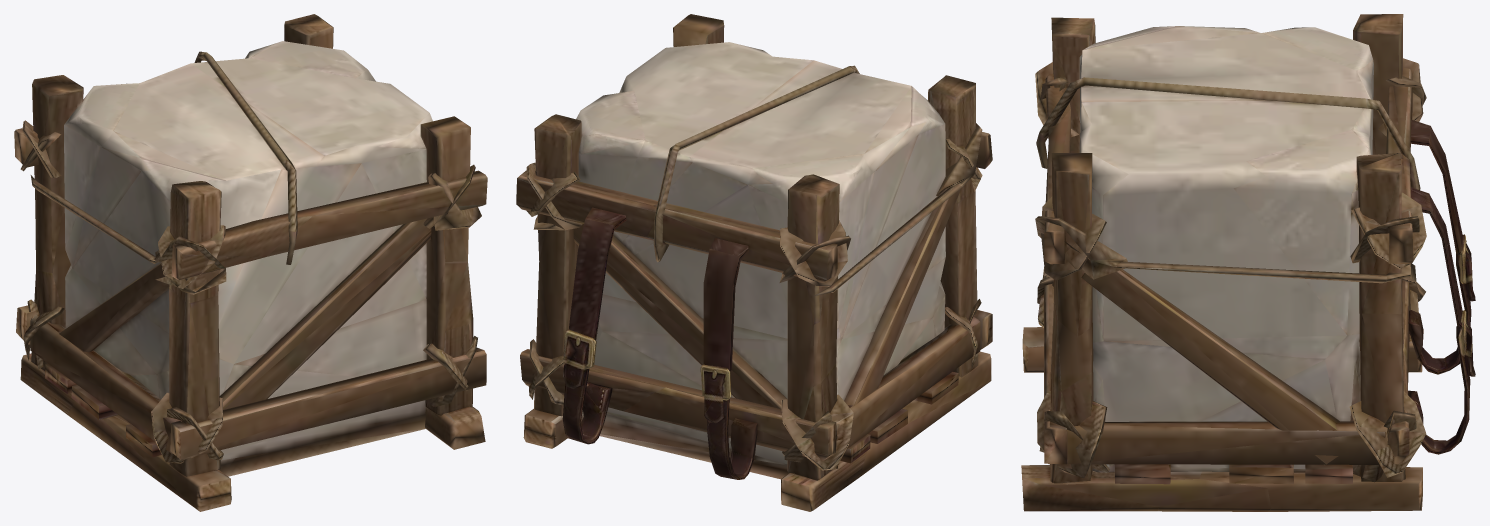
Rendered from pack_stoneBlock.glb.
The picture shows the model from 3 angles, left to right: view 1: azimuth 30°, elevation 25°; view 2: azimuth 150°, elevation 25°; view 3: azimuth 270°, elevation 25°; orthographic projection. The views are drawn at different scales.
Size of the model in its own units: 0.8736 by 0.8038 by 0.958.
1 material, 1 textured.
